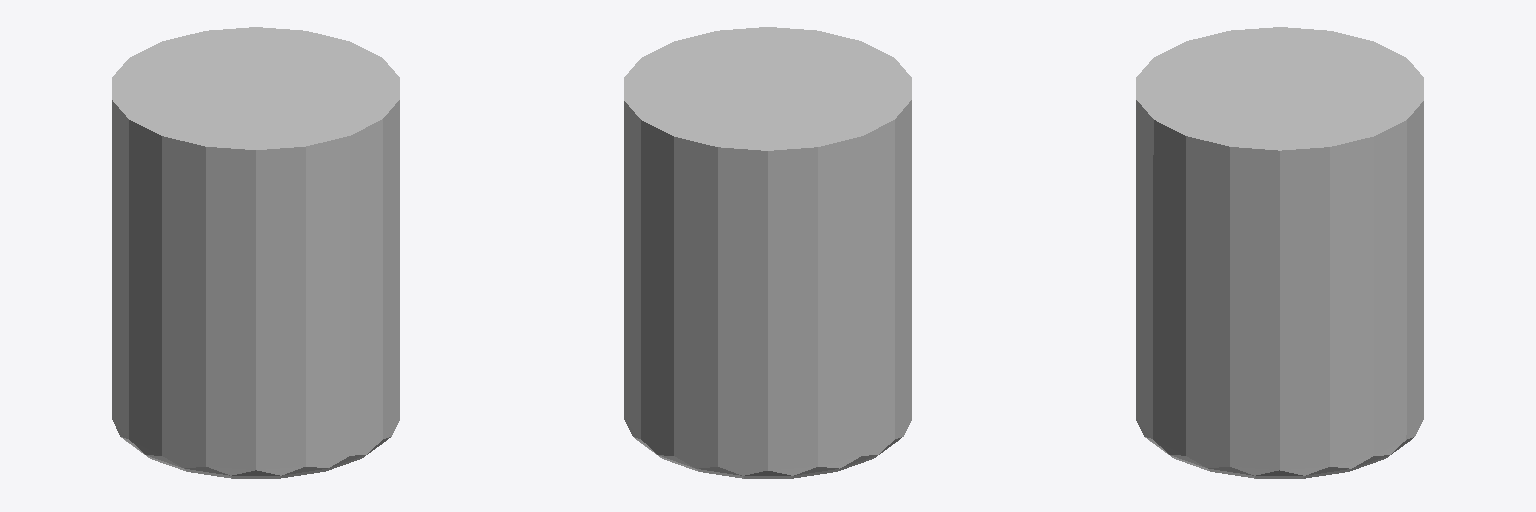
Rendered from Back.obj.
3 renders of one model, left to right at view 1: azimuth 30°, elevation 25°; view 2: azimuth 150°, elevation 25°; view 3: azimuth 270°, elevation 25°, orthographic.
Parts seen in each view (by area): view 1: Back; view 2: Back; view 3: Back.
Boxes of the visible parts, box(x1,y1,x2,y2) form: Back: box(112, 27, 399, 478); Back: box(624, 27, 911, 478); Back: box(1136, 27, 1423, 478).
Size of the model in its own units: 9 by 11.36 by 8.88.